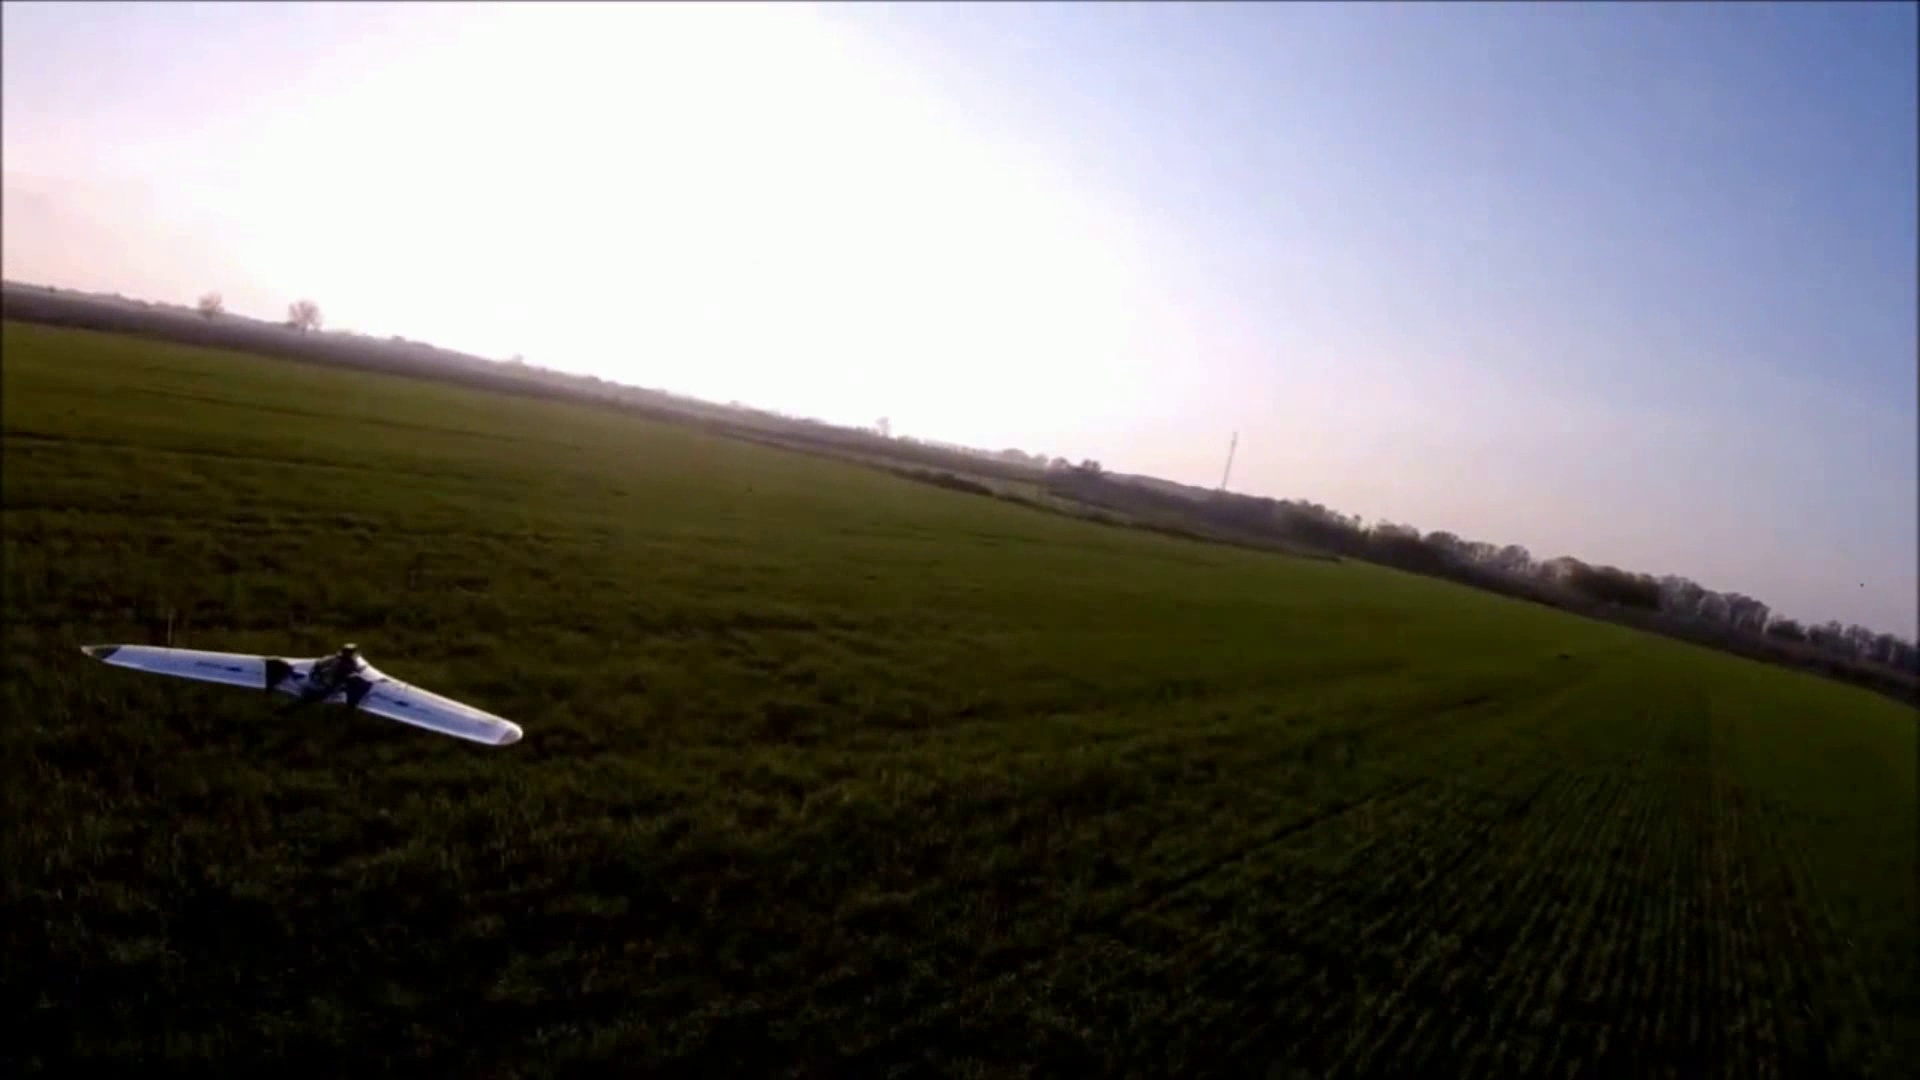airplane: (88, 643, 525, 749)
